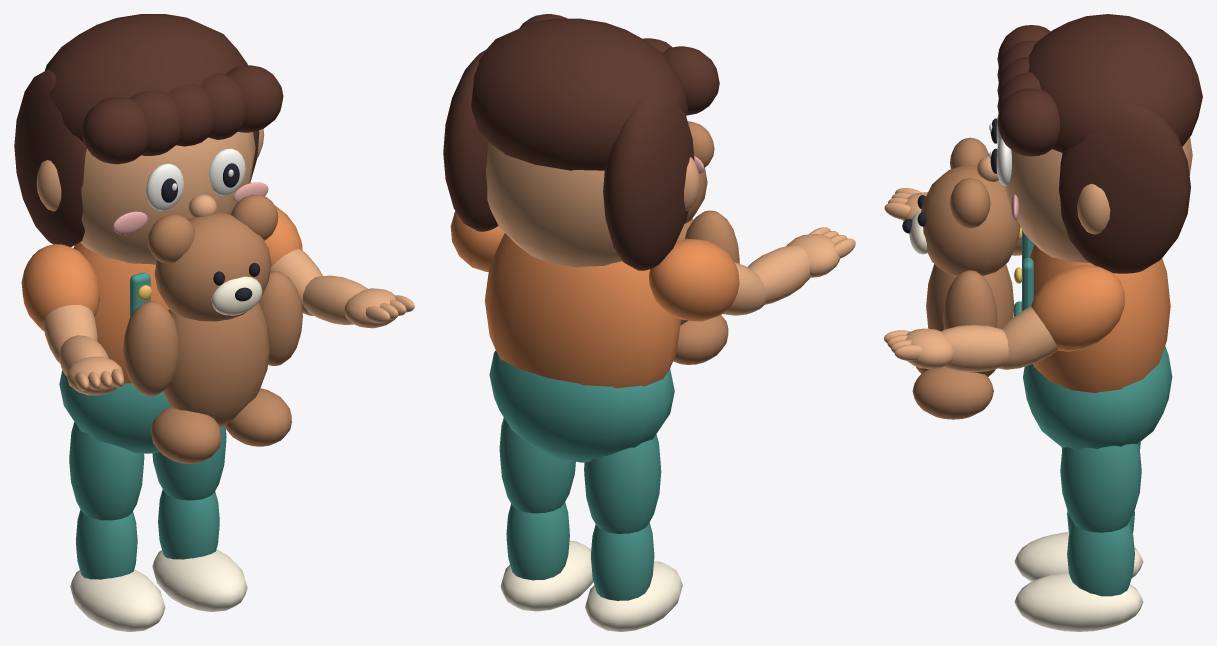
The model's file is ava-hug.glb.
3 renders of one model, left to right at view 1: azimuth 30°, elevation 25°; view 2: azimuth 150°, elevation 25°; view 3: azimuth 270°, elevation 25°, orthographic. The views are drawn at different scales.
Visible parts, largest first — view 1: hair cap, clay head, bear tummy, bob hair, bear head, trouser leg, overalls, shirt sleeve, little shoe, little shoe.001, bear arm, soft shirt (+25 smaller); view 2: hair cap, soft shirt, overalls, bob hair, clay head, trouser leg, shirt sleeve, bob hair.001, trouser leg.001, lower leg.001, lower leg, little shoe (+10 smaller); view 3: bob hair.001, hair cap, soft shirt, overalls, bear head, trouser leg.001, shirt sleeve.001, clay head, little shoe.001, lower leg.001, fringe.004, bear foot.001 (+16 smaller).
Part boxes in pixels (x1,y1,x2,y2): hair cap: [45, 14, 247, 142]; clay head: [80, 132, 255, 264]; bear tummy: [163, 302, 269, 426]; bob hair: [14, 69, 86, 246]; bear head: [154, 212, 271, 321]; trouser leg: [69, 422, 144, 520]; overalls: [59, 370, 170, 453]; shirt sleeve: [21, 244, 99, 330]; little shoe: [70, 569, 165, 631]; little shoe.001: [152, 549, 247, 611]; bear arm: [123, 301, 178, 395]; soft shirt: [73, 242, 168, 383]; hair cap: [471, 18, 688, 170]; soft shirt: [484, 233, 681, 388]; overalls: [489, 350, 674, 462]; bob hair: [603, 92, 694, 270]; clay head: [486, 142, 622, 267]; trouser leg: [584, 434, 661, 533]; shirt sleeve: [649, 238, 739, 321]; bob hair.001: [443, 50, 498, 231]; trouser leg.001: [499, 417, 575, 513]; lower leg.001: [506, 502, 569, 580]; lower leg: [591, 523, 654, 600]; little shoe: [585, 561, 682, 631]; bob hair.001: [1059, 104, 1190, 273]; hair cap: [1028, 14, 1202, 152]; soft shirt: [1021, 244, 1170, 393]; overalls: [1023, 346, 1172, 448]; bear head: [921, 165, 1020, 275]; trouser leg.001: [1060, 444, 1141, 532]; shirt sleeve.001: [1031, 265, 1124, 351]; clay head: [1004, 137, 1192, 263]; little shoe.001: [1014, 572, 1143, 631]; lower leg.001: [1067, 522, 1134, 596]; fringe.004: [997, 88, 1059, 156]; bear foot.001: [912, 367, 993, 419].
Bounding box in the file's own units: 1.13 × 1.87 × 0.9388.
